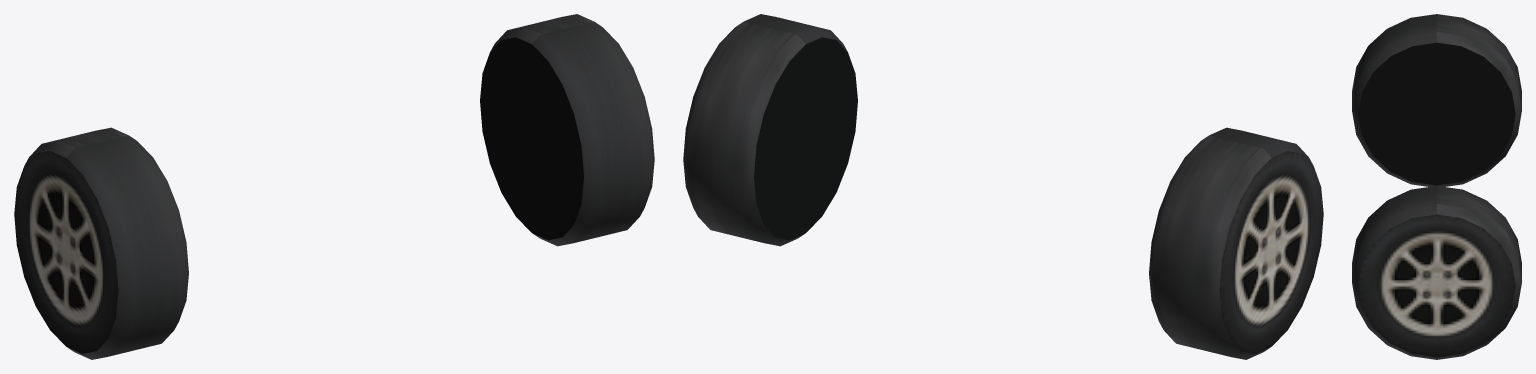
The model's file is liftback_95_wheels_r.obj.
3 views of the same model, side by side, from view 1: azimuth 30°, elevation 25°; view 2: azimuth 150°, elevation 25°; view 3: azimuth 270°, elevation 25° (orthographic). The views are drawn at different scales.
Visible parts, largest first — view 1: liftback_95_wheels_r; view 2: liftback_95_wheels_r; view 3: liftback_95_wheels_r.
Part boxes in pixels (x1,y1,x2,y2): liftback_95_wheels_r: [14, 14, 654, 359]; liftback_95_wheels_r: [683, 14, 1323, 359]; liftback_95_wheels_r: [1352, 14, 1521, 359].
Size of the model in its own units: 1.64 by 0.5966 by 0.5966.
Materials: 1 (1 with a texture image).
